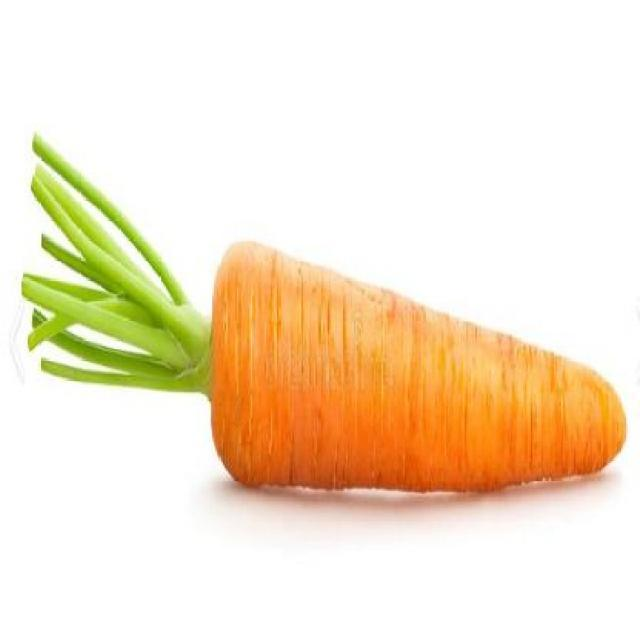carrot: (195, 187, 626, 570)
